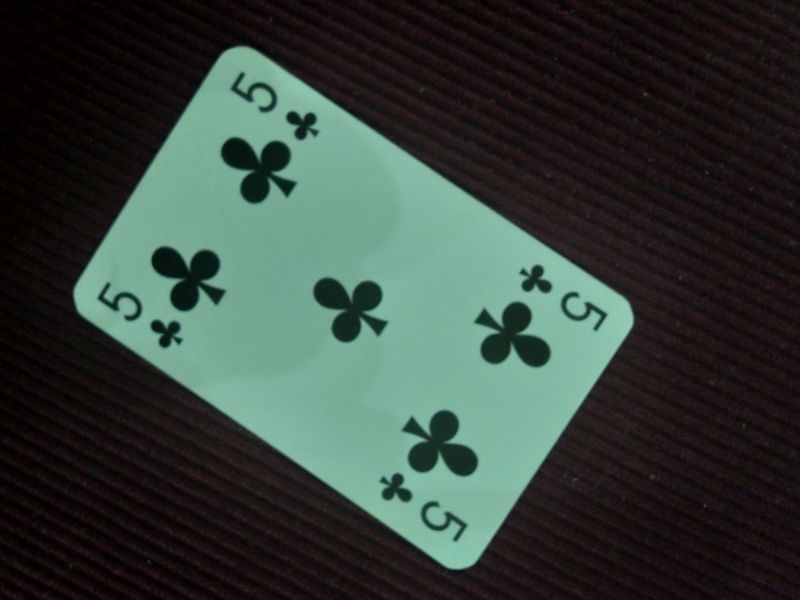5c: (514, 256, 609, 334), (228, 67, 322, 142), (377, 471, 470, 543), (94, 279, 186, 350)
